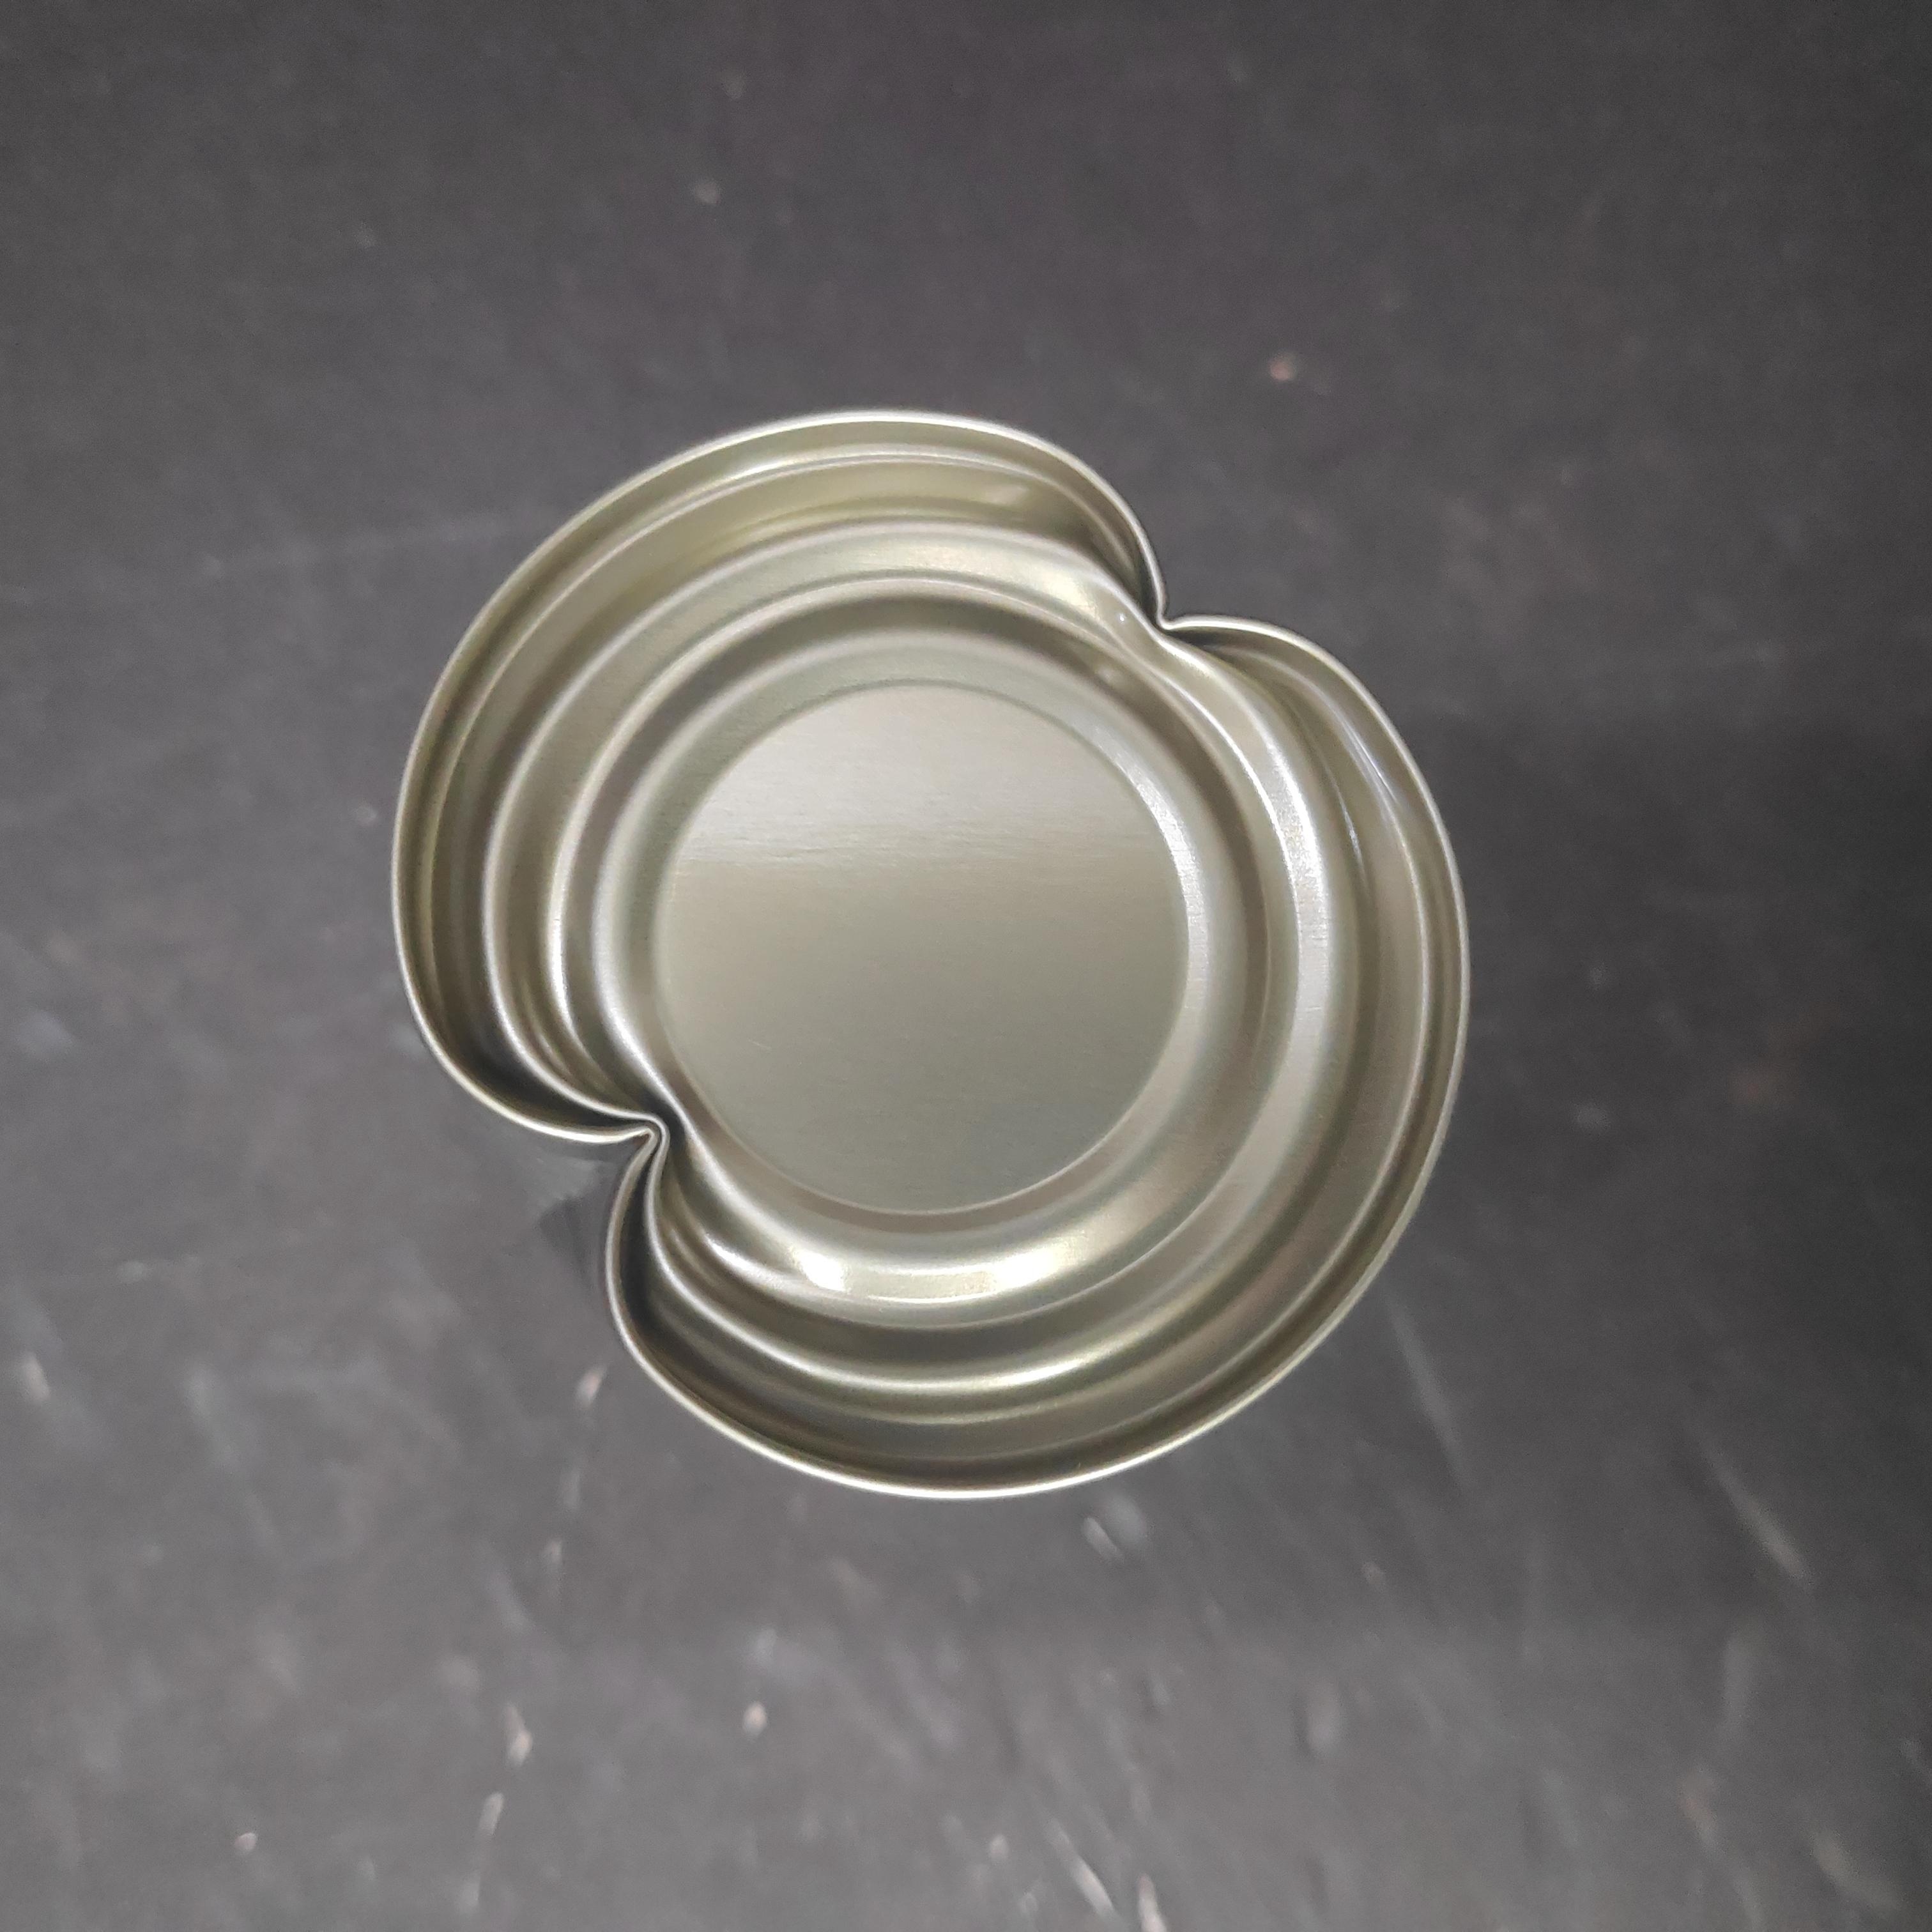Critical Defect: (451, 416, 1552, 1550)
